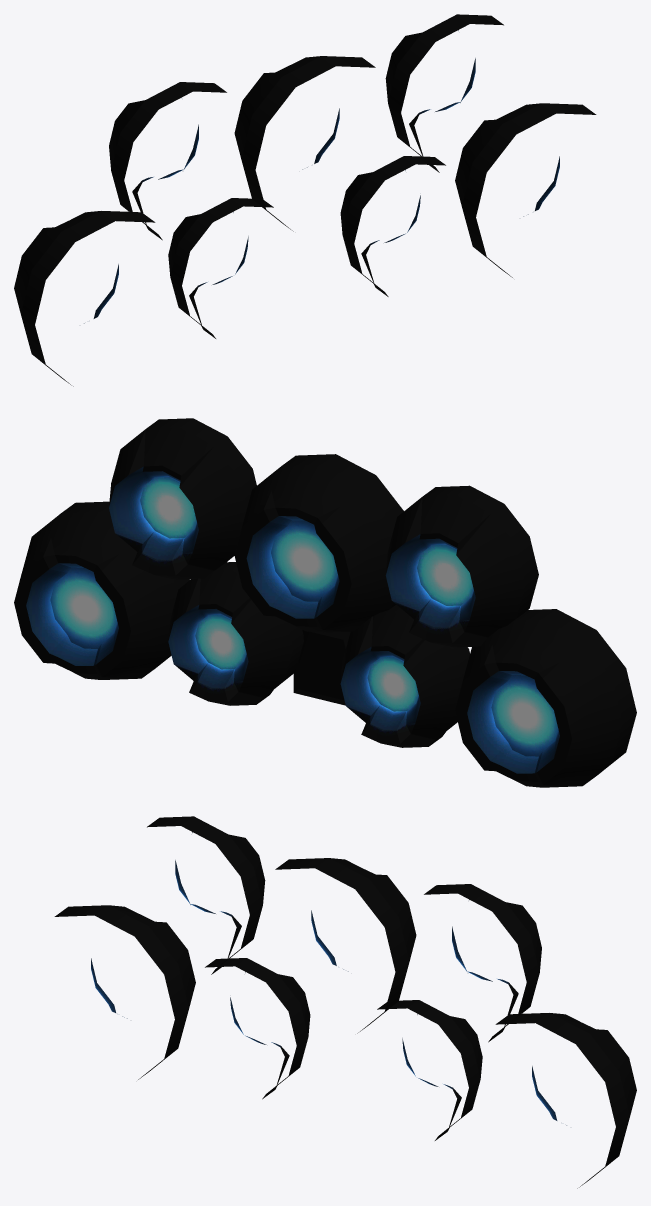
The model's file is engine_hgn_battlecruiser_01_ion_03_t1.glb.
3 views of the same model, one above another, from view 1: azimuth 30°, elevation 25°; view 2: azimuth 150°, elevation 25°; view 3: azimuth 330°, elevation 25° (orthographic).
Parts seen in each view (by area): view 1: ion_engine_t1_l_01_LOD0; view 2: ion_engine_t1_l_01_LOD0; view 3: ion_engine_t1_l_01_LOD0.
Boxes of the visible parts, x1,y1,x2,y2 form: ion_engine_t1_l_01_LOD0: [14, 14, 596, 386]; ion_engine_t1_l_01_LOD0: [14, 418, 636, 787]; ion_engine_t1_l_01_LOD0: [54, 816, 636, 1188].
Size of the model in its own units: 1.96 by 0.8546 by 0.2461.
Materials: 1 (1 with a texture image).
